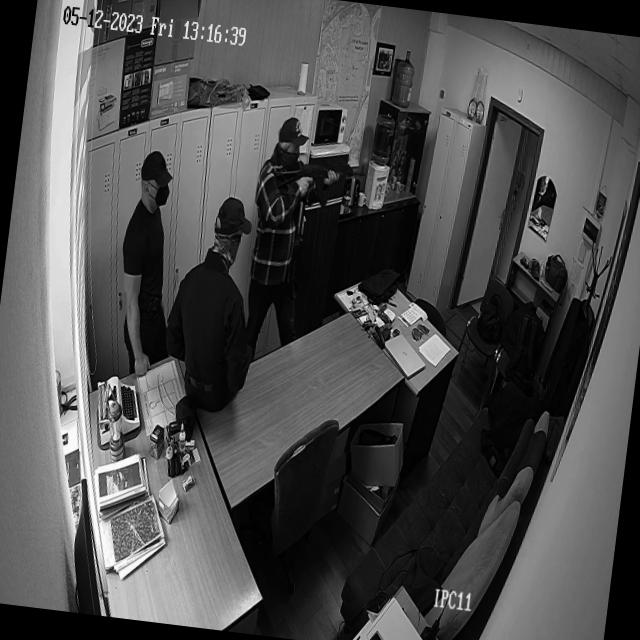gun: (271, 151, 359, 214), (518, 252, 530, 272)
person: (162, 194, 268, 415), (106, 145, 192, 378)
person with a gun: (240, 114, 364, 362)
